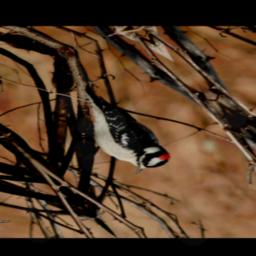Woodpecker: (42, 79, 181, 178)
